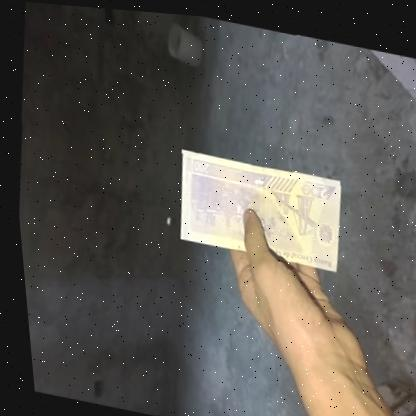two_hundred-back-vef: (166, 144, 345, 269)
